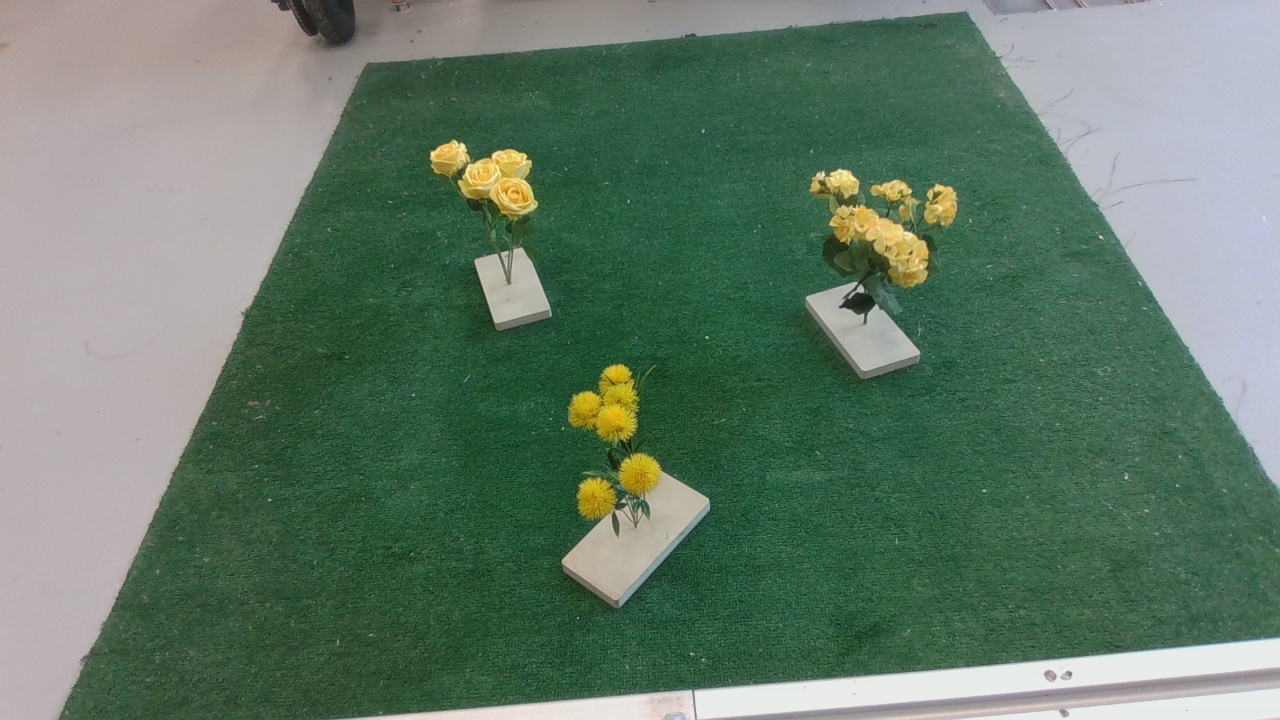dandelion: (570, 348, 666, 542)
geranium: (804, 163, 968, 325)
rose: (423, 129, 559, 246)
